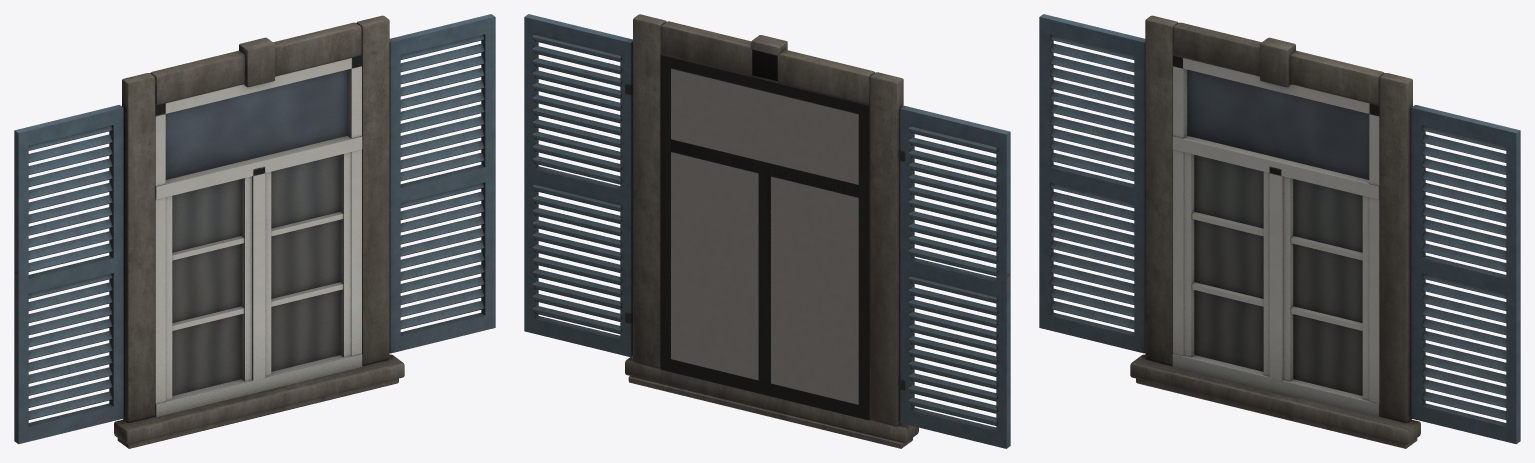
The model's file is win_town_blue.glb.
3 renders of one model, left to right at view 1: azimuth 30°, elevation 25°; view 2: azimuth 150°, elevation 25°; view 3: azimuth 330°, elevation 25°, orthographic.
Parts seen in each view (by area): view 1: win_town_blue; view 2: win_town_blue; view 3: win_town_blue.
Boxes of the visible parts, x1,y1,x2,y2 form: win_town_blue: (14, 14, 495, 448); win_town_blue: (524, 14, 1010, 448); win_town_blue: (1039, 14, 1520, 448).
Bounding box in the file's own units: 2.36 × 1.74 × 0.1242.
1 material, 1 textured.
